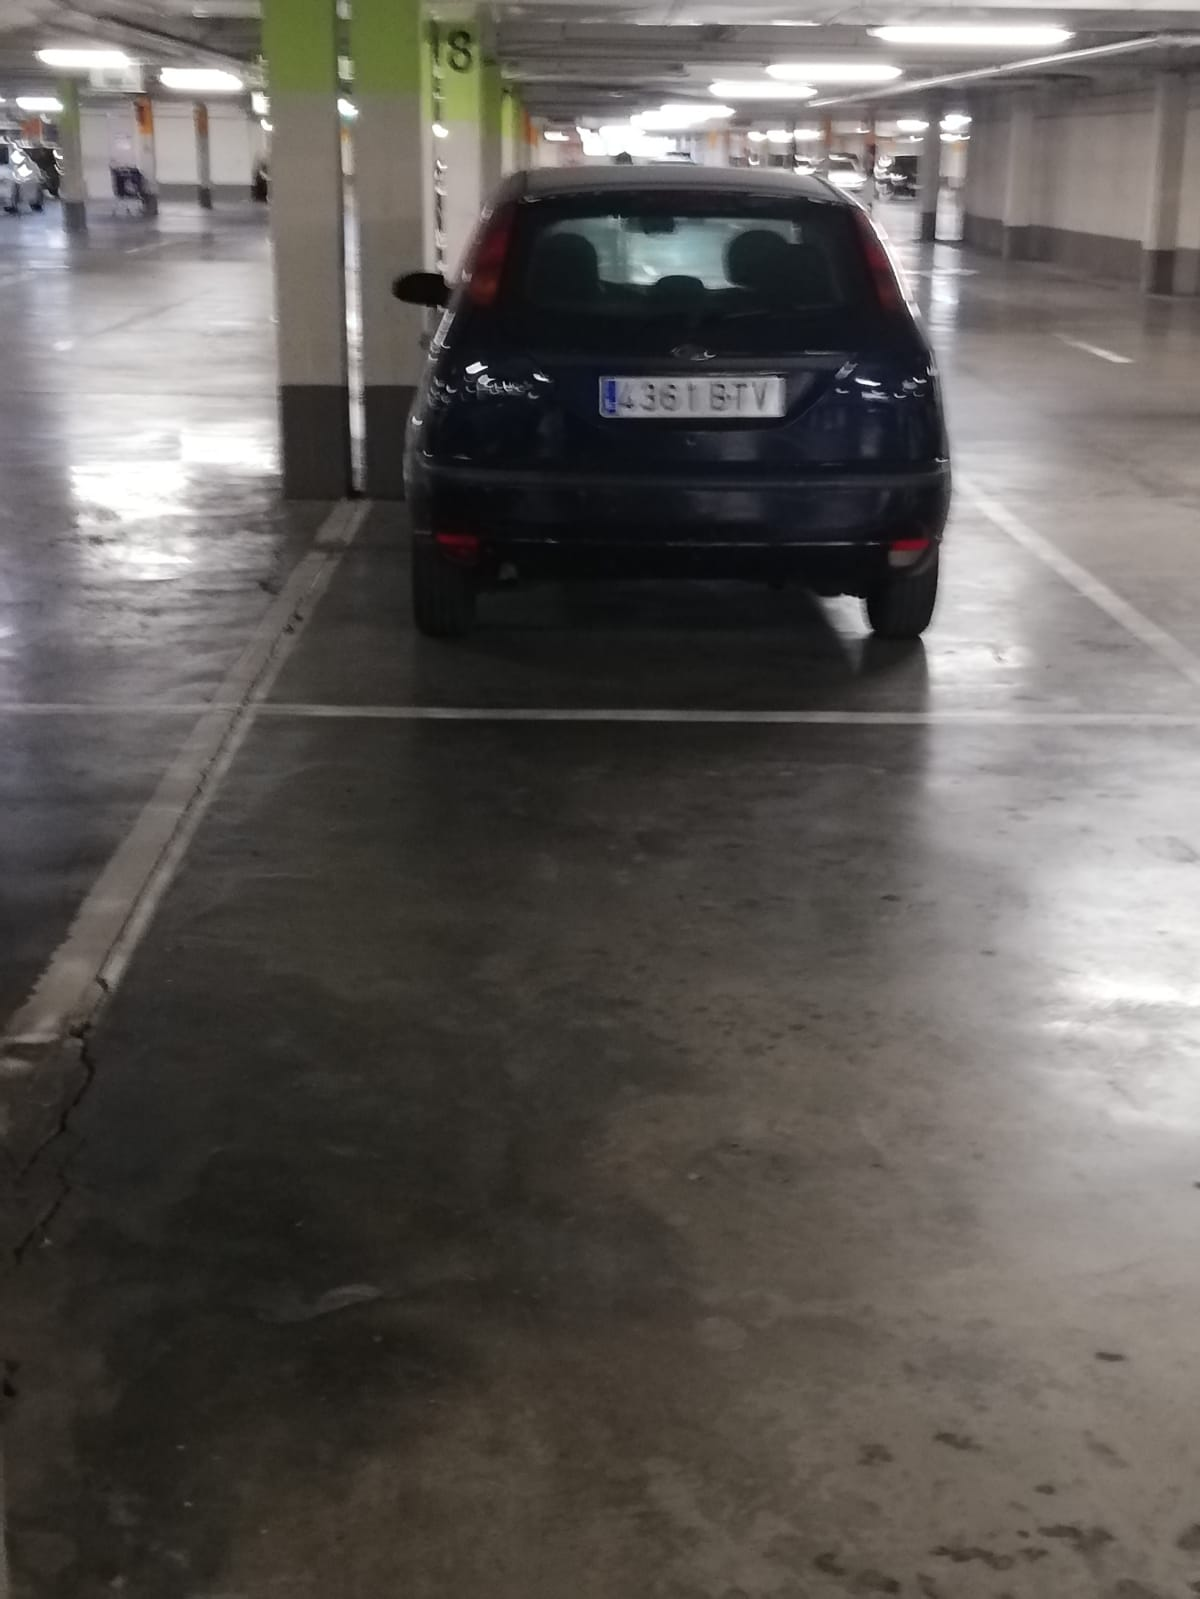Car: (405, 165, 942, 637)
Plate: (596, 374, 780, 420)
